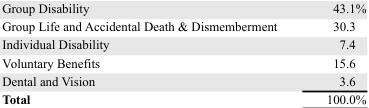table: (1, 0, 365, 105)
table column: (1, 0, 301, 105), (301, 0, 365, 105)
table row: (1, 16, 365, 35), (1, 35, 365, 53), (1, 53, 365, 71), (1, 71, 365, 89), (1, 0, 365, 16), (1, 89, 365, 105)
